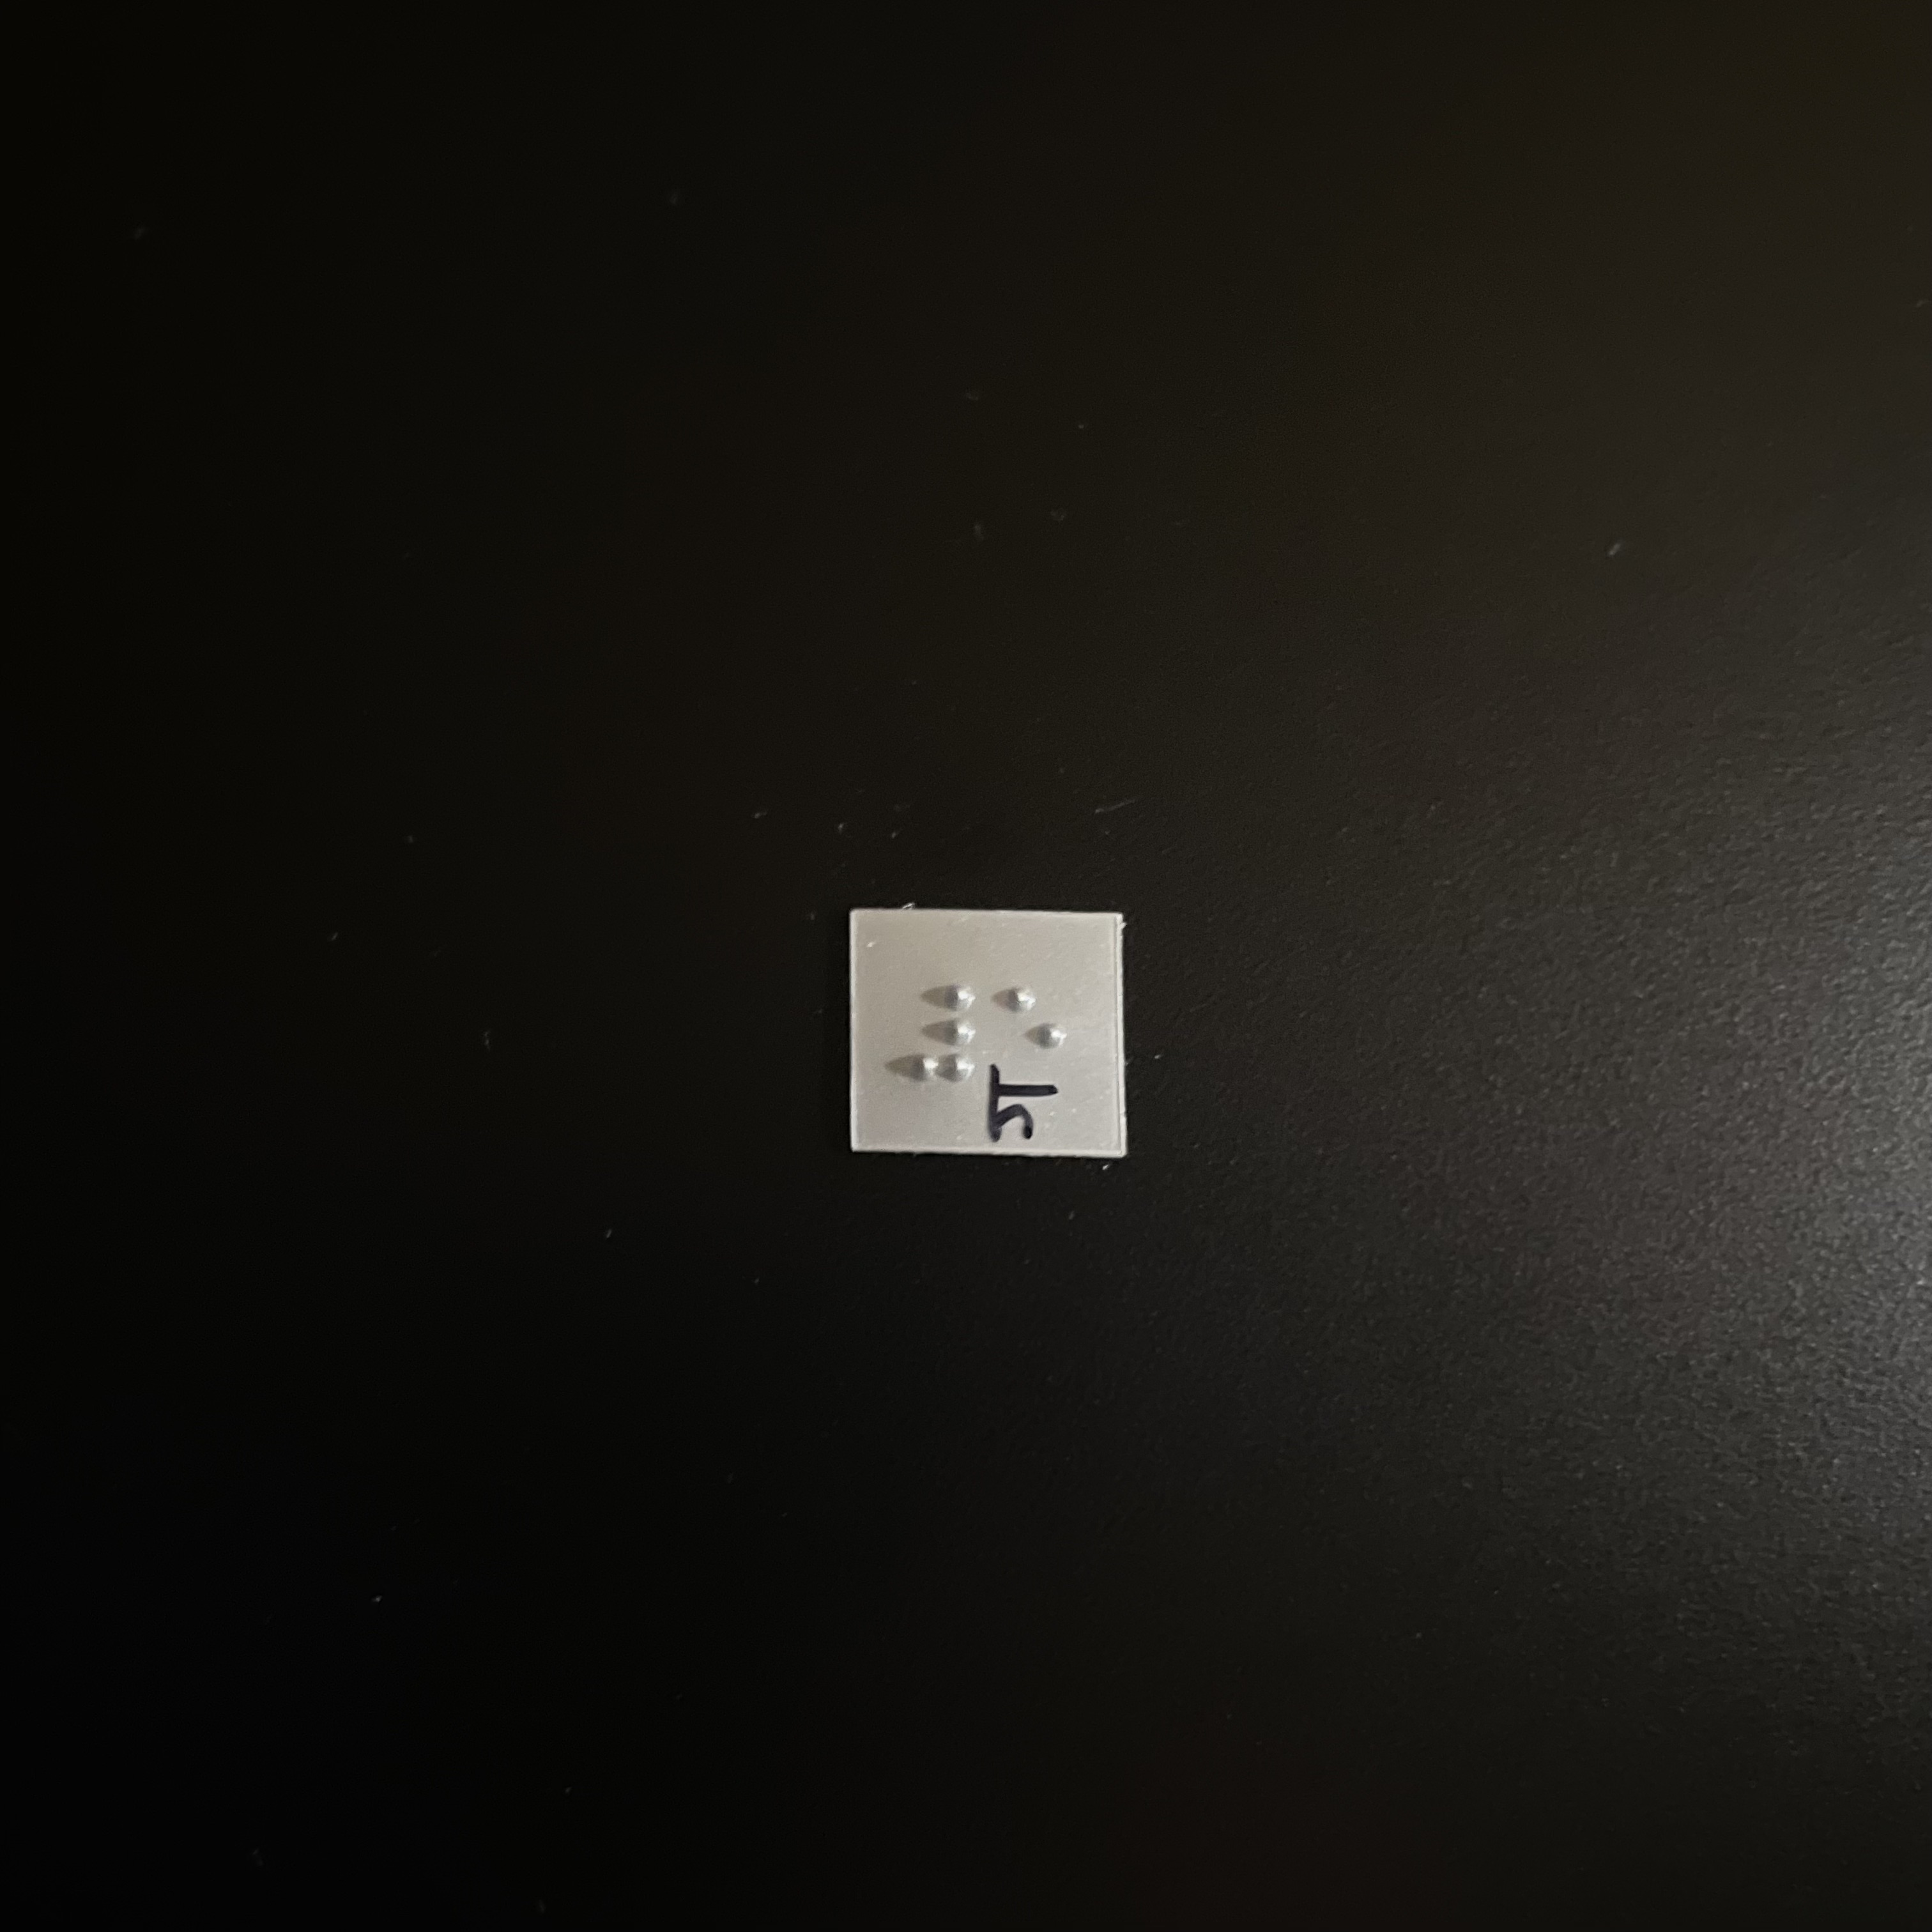#: (888, 983, 979, 1088)
e: (994, 985, 1067, 1092)
